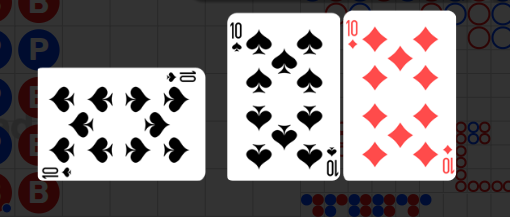10D: (441, 143, 453, 175)
10S: (41, 164, 75, 178), (229, 21, 243, 54)
